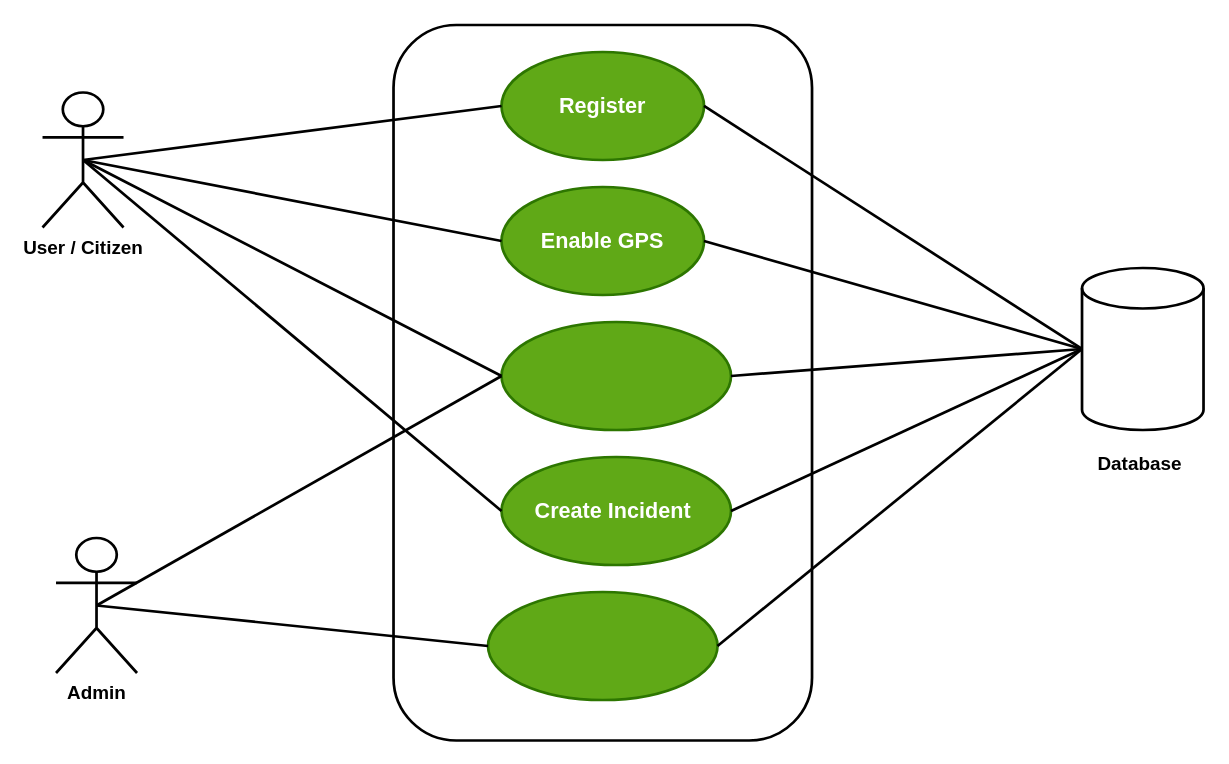
This 1229x764 diagram has some shape labels left out. The centre of each missing label's shape, as x and y in pixels:
"Monitor Data" goes at (602,645).
"View Incident Map" goes at (616,375).
